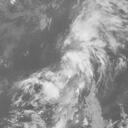cyclone: (39, 49, 96, 106)
